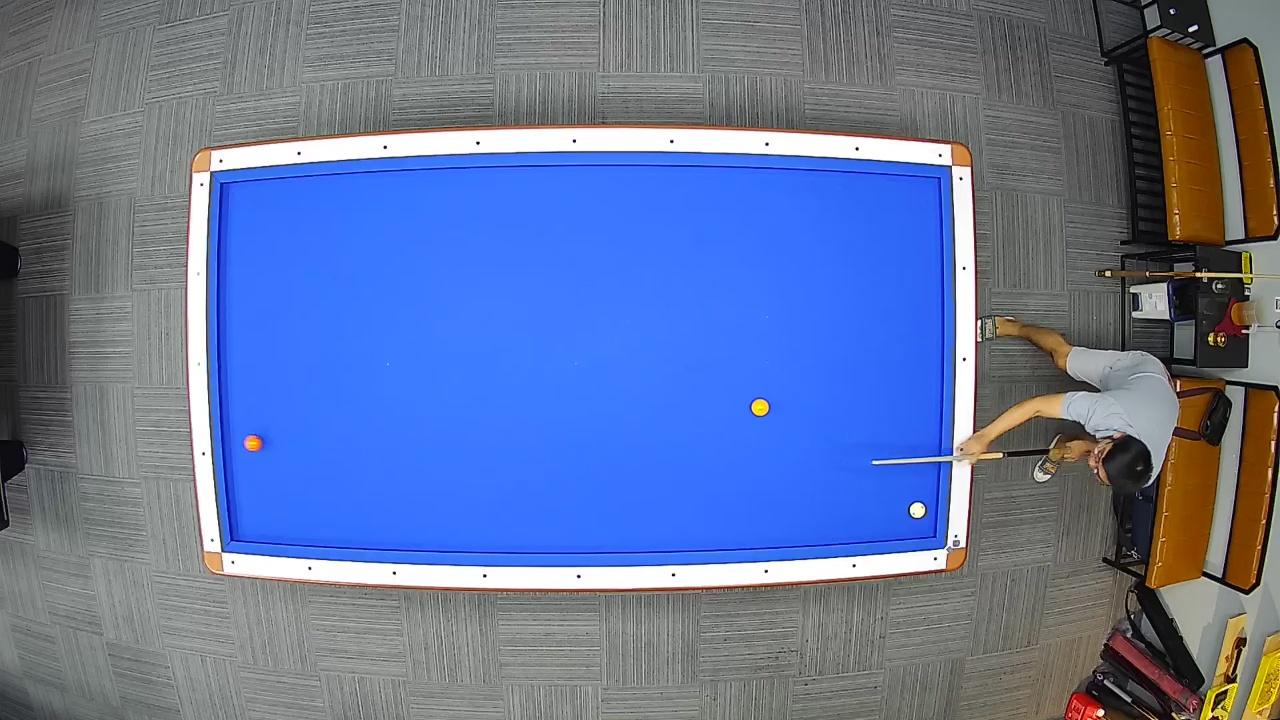Orange: (243, 433, 265, 453)
White: (908, 502, 928, 520)
Yellow: (748, 396, 772, 417)
